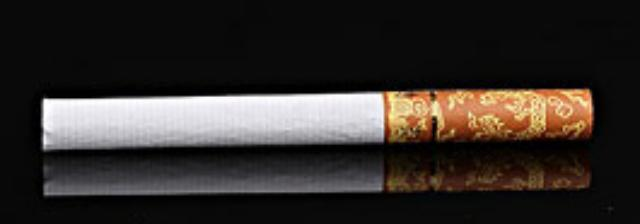Smoking: (39, 87, 592, 147)
